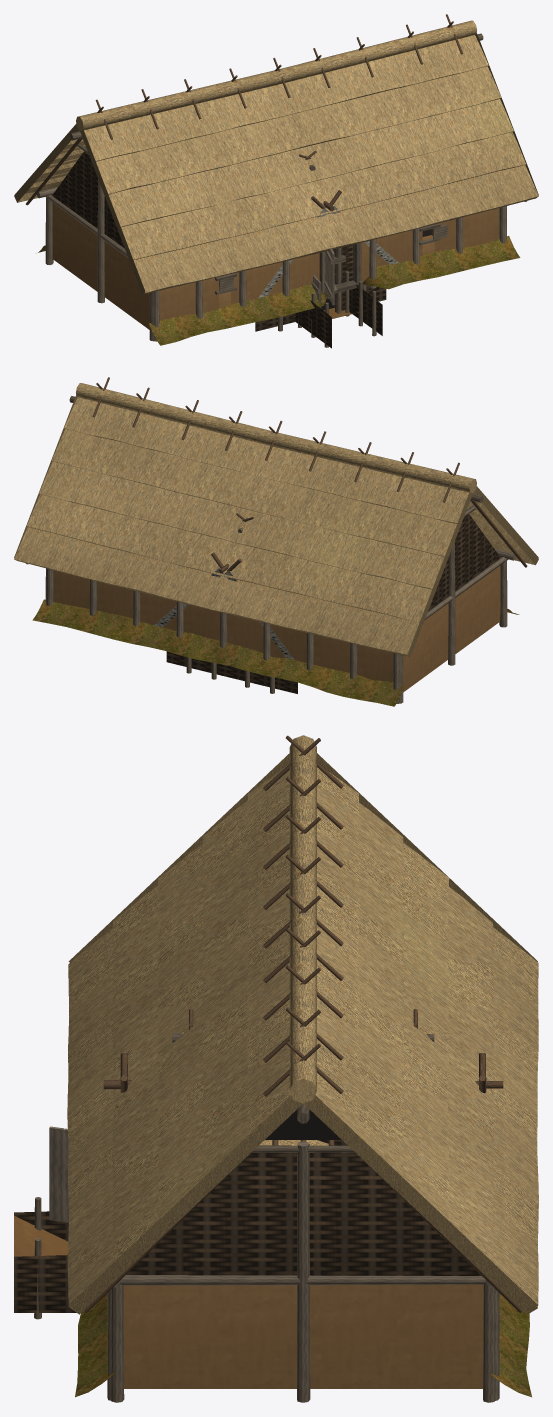
File: homestead.glb
3 renders of one model, top to bottom at view 1: azimuth 30°, elevation 25°; view 2: azimuth 150°, elevation 25°; view 3: azimuth 270°, elevation 25°, orthographic. The views are drawn at different scales.
Parts seen in each view (by area): view 1: talo, kuoppatalo; view 2: talo, kuoppatalo; view 3: talo, kuoppatalo.
Boxes of the visible parts, bbox=[...] form: talo: bbox=[14, 14, 538, 345]; kuoppatalo: bbox=[219, 190, 398, 348]; talo: bbox=[14, 377, 538, 706]; kuoppatalo: bbox=[154, 552, 297, 693]; talo: bbox=[49, 735, 538, 1402]; kuoppatalo: bbox=[14, 1053, 503, 1319].
Size of the model in its own units: 12.3 by 6.5 by 7.62.
8 materials, 7 textured.
